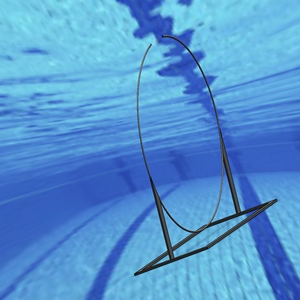circle: (131, 32, 278, 274)
